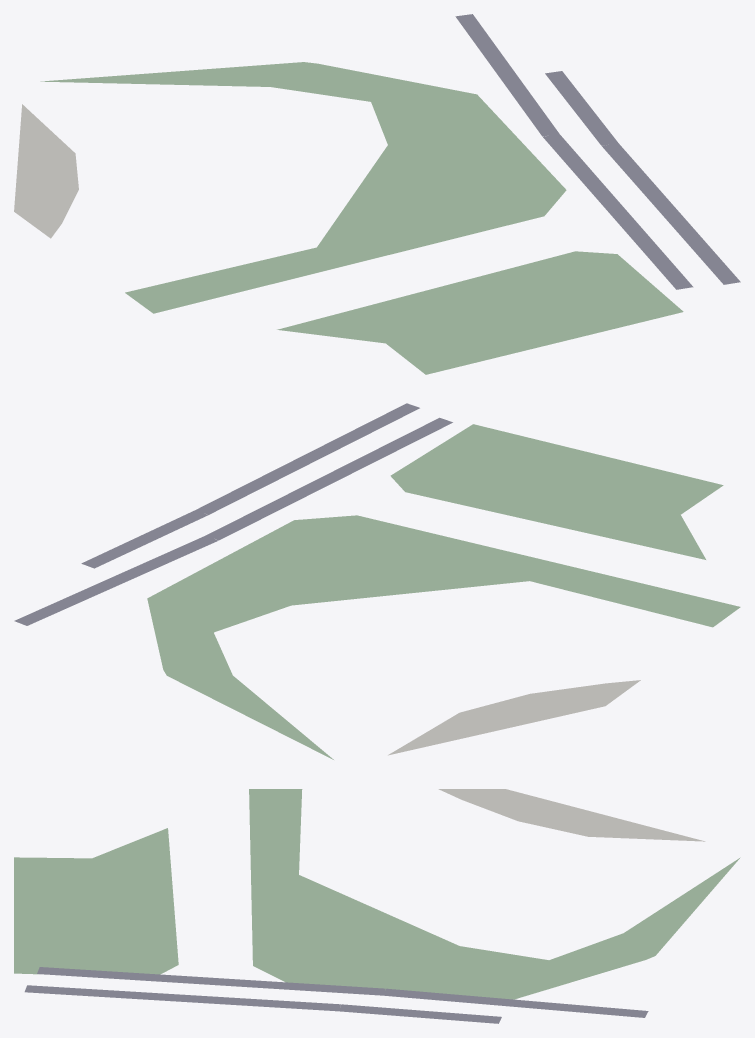
The model's file is 128_66_mid.glb.
3 renders of one model, top to bottom at view 1: azimuth 30°, elevation 25°; view 2: azimuth 150°, elevation 25°; view 3: azimuth 270°, elevation 25°, orthographic. The views are drawn at different scales.
Size of the model in its own units: 359 by 9.88 by 450.
